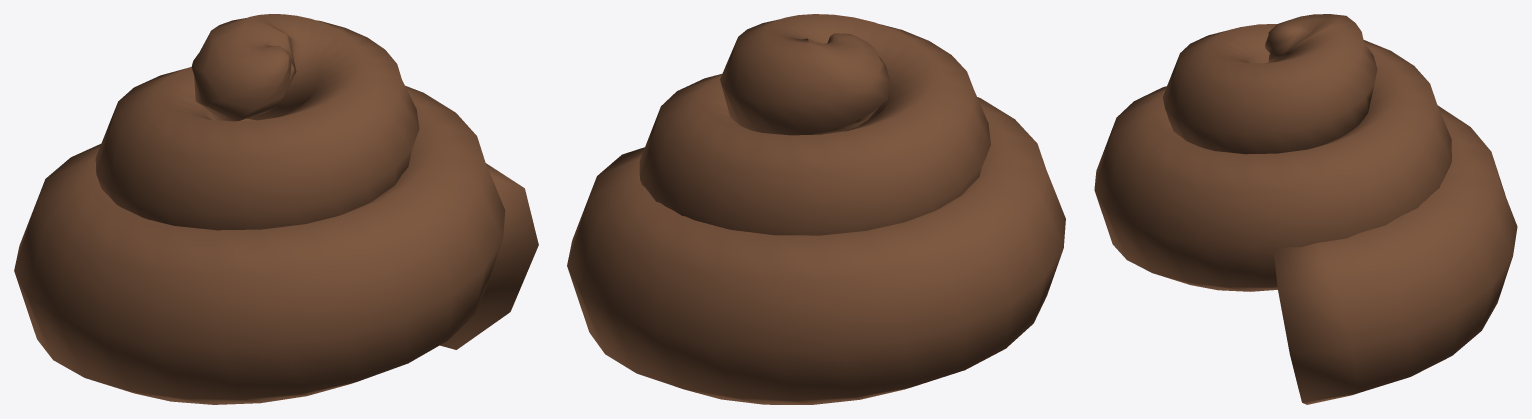
Rendered from J001_rubber_poop_rebuilt.glb.
3 views of the same model, side by side, from view 1: azimuth 30°, elevation 25°; view 2: azimuth 150°, elevation 25°; view 3: azimuth 270°, elevation 25° (orthographic). The views are drawn at different scales.
Parts seen in each view (by area): view 1: Soft_molded_brown_novelty_rubber; view 2: Soft_molded_brown_novelty_rubber; view 3: Soft_molded_brown_novelty_rubber.
Part boxes in pixels (x1,y1,x2,y2): Soft_molded_brown_novelty_rubber: (14,14,538,404); Soft_molded_brown_novelty_rubber: (567,14,1065,404); Soft_molded_brown_novelty_rubber: (1094,14,1517,404).
Size of the model in its own units: 0.8393 by 0.6056 by 0.7568.
